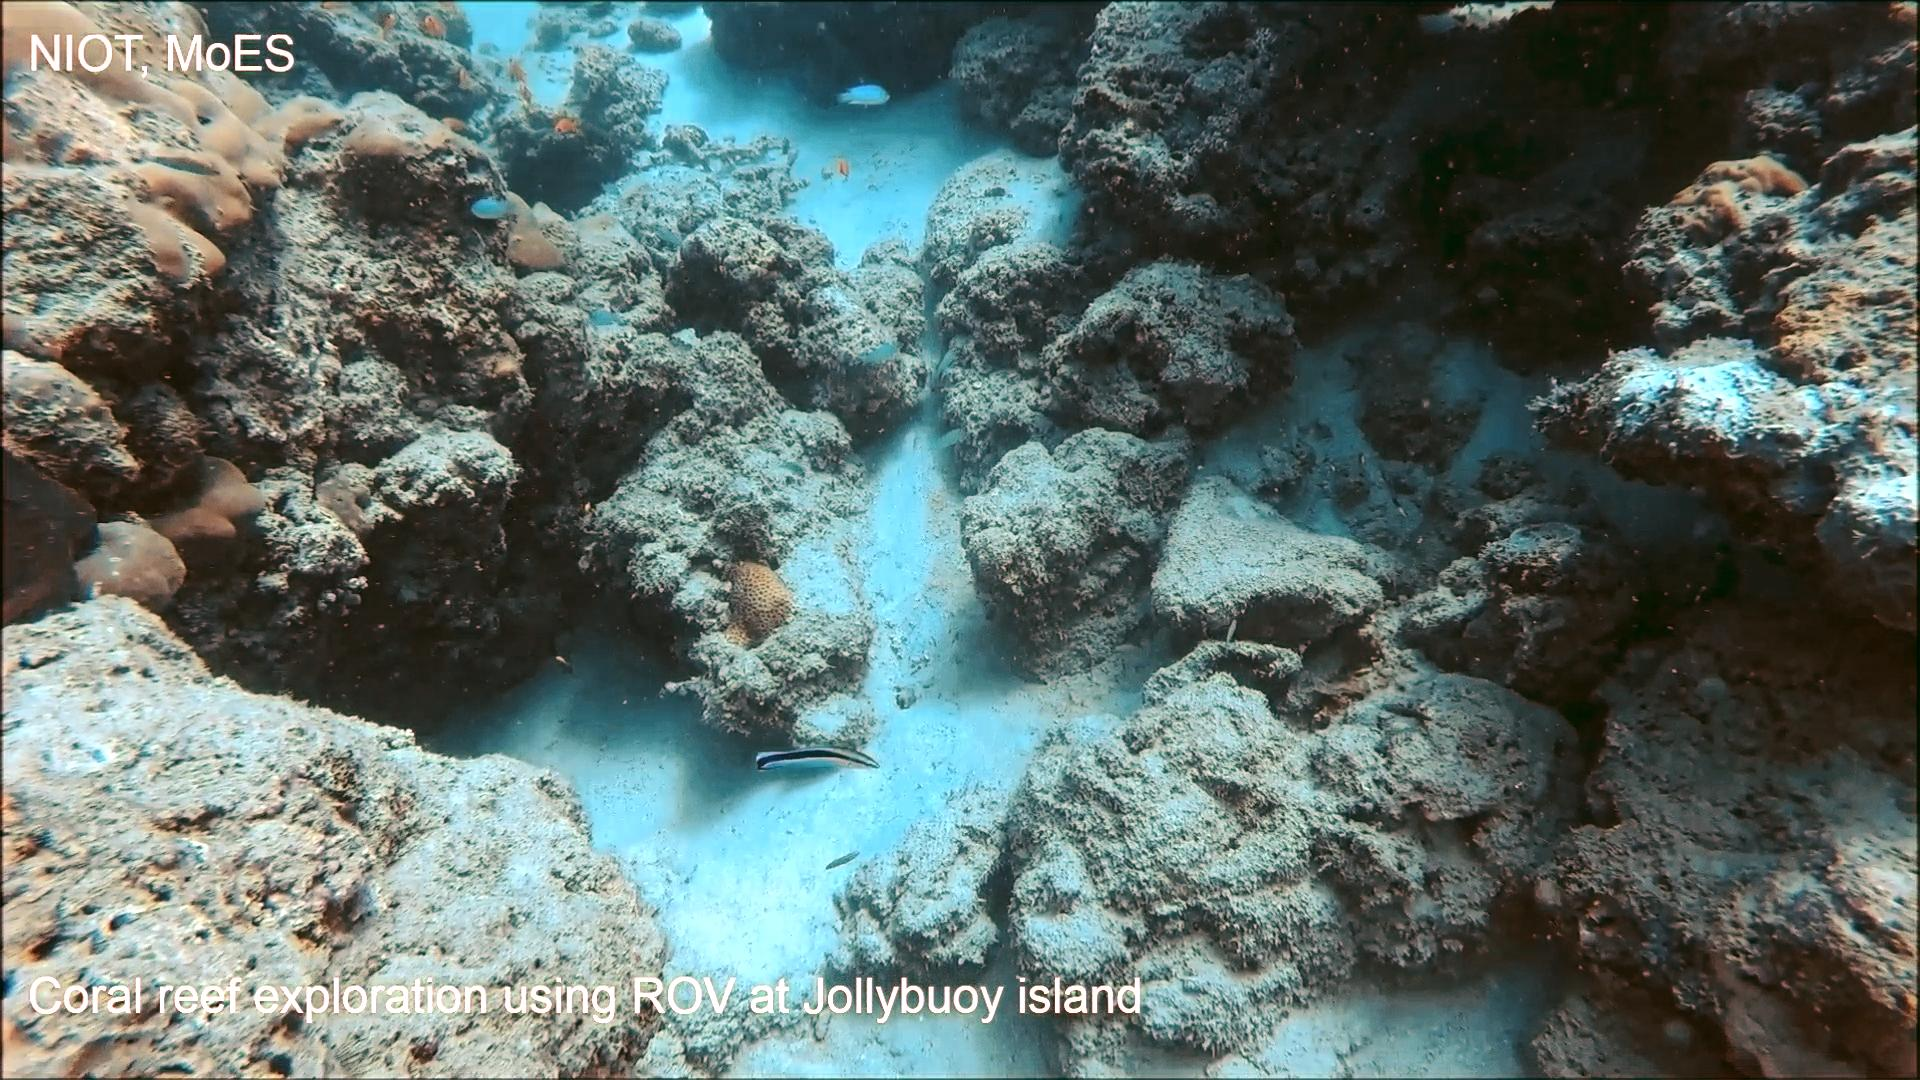Porites-Porites pukoensis: (3, 0, 353, 295)
